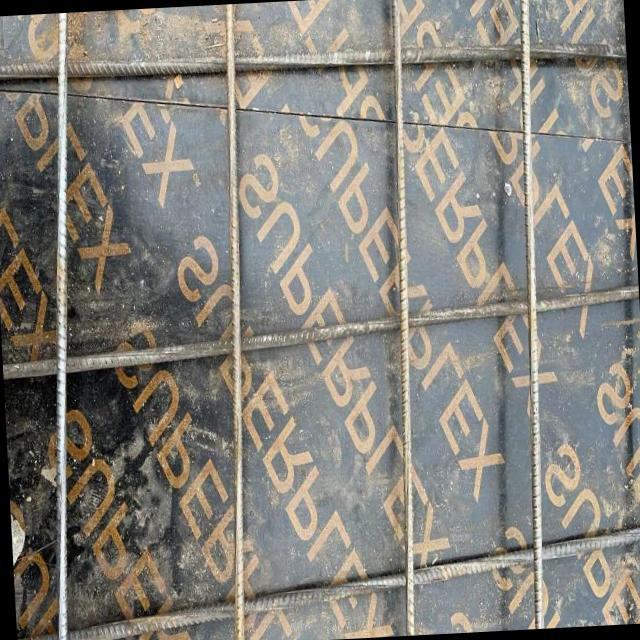ribbed bar: (13, 524, 640, 640), (0, 282, 640, 385), (23, 13, 102, 640), (201, 5, 268, 640), (0, 31, 627, 94), (372, 0, 433, 636), (501, 0, 562, 629)
